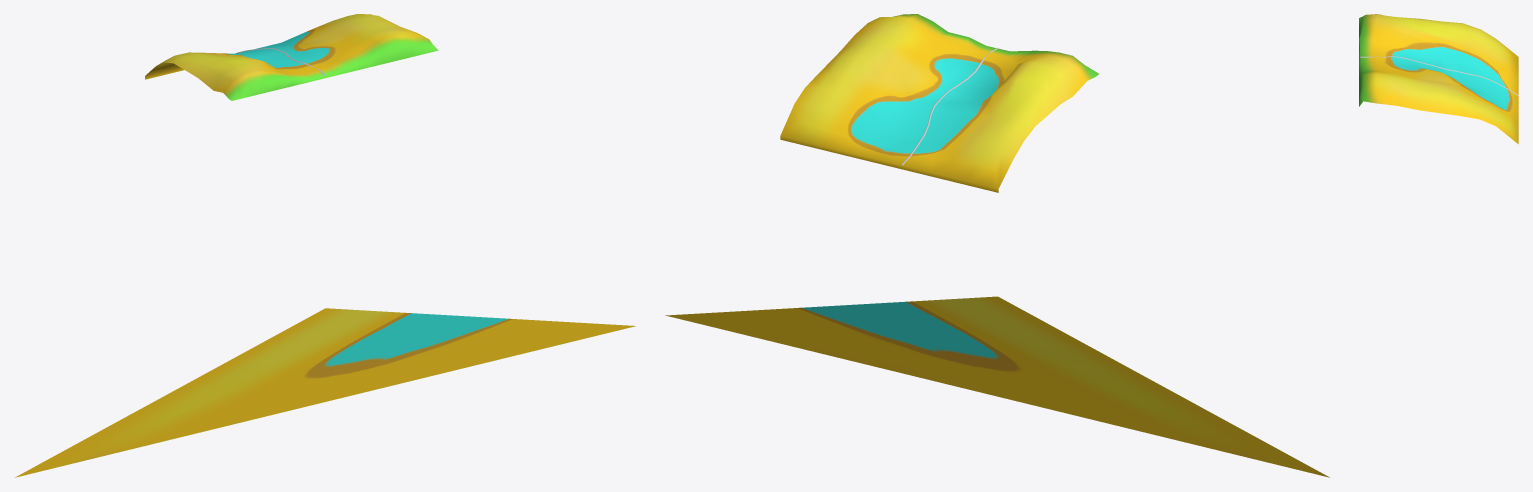
Rendered from L_SpringSummer1b.fbx.
3 renders of one model, left to right at view 1: azimuth 30°, elevation 25°; view 2: azimuth 150°, elevation 25°; view 3: azimuth 270°, elevation 25°, orthographic. The views are drawn at different scales.
Visible parts, largest first — view 1: Obj, LocSpringSummer1; view 2: Obj, LocSpringSummer1; view 3: LocSpringSummer1, WireSS1.
Part boxes in pixels (x1=…): Obj: x1=15, y1=308, x2=635, y2=477; LocSpringSummer1: x1=145, y1=14, x2=438, y2=100; Obj: x1=665, y1=296, x2=1329, y2=477; LocSpringSummer1: x1=780, y1=14, x2=1098, y2=192; LocSpringSummer1: x1=1359, y1=14, x2=1518, y2=144; WireSS1: x1=1360, y1=56, x2=1518, y2=95.
Bounding box in the file's own units: 200 × 105 × 50.46.
